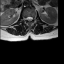CCS_normal: (28, 14, 30, 24)
LFS_stenosis: (32, 15, 34, 21)
LLS_normal: (30, 14, 32, 21)
RFS_normal: (24, 14, 26, 21)
RLS_normal: (26, 14, 28, 22)
